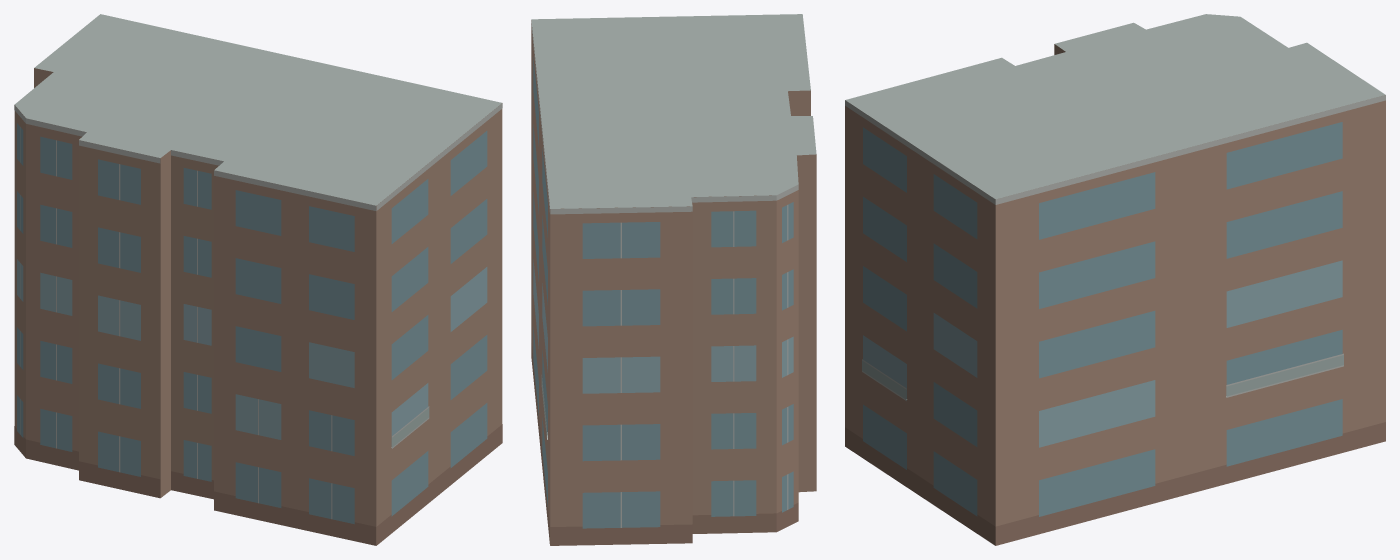
Rendered from survey-upis-33022548.glb.
The picture shows the model from 3 angles, left to right: view 1: azimuth 30°, elevation 25°; view 2: azimuth 150°, elevation 25°; view 3: azimuth 270°, elevation 25°; orthographic projection. The views are drawn at different scales.
Visible parts, largest first — view 1: survey-upis-33022548.tmp; view 2: survey-upis-33022548.tmp; view 3: survey-upis-33022548.tmp.
Boxes of the visible parts, box(x1,y1,x2,y2) form: survey-upis-33022548.tmp: box(14, 14, 502, 545); survey-upis-33022548.tmp: box(531, 14, 816, 545); survey-upis-33022548.tmp: box(845, 14, 1385, 545).
Bounding box in the file's own units: 17.34 × 15.1 × 21.37.
